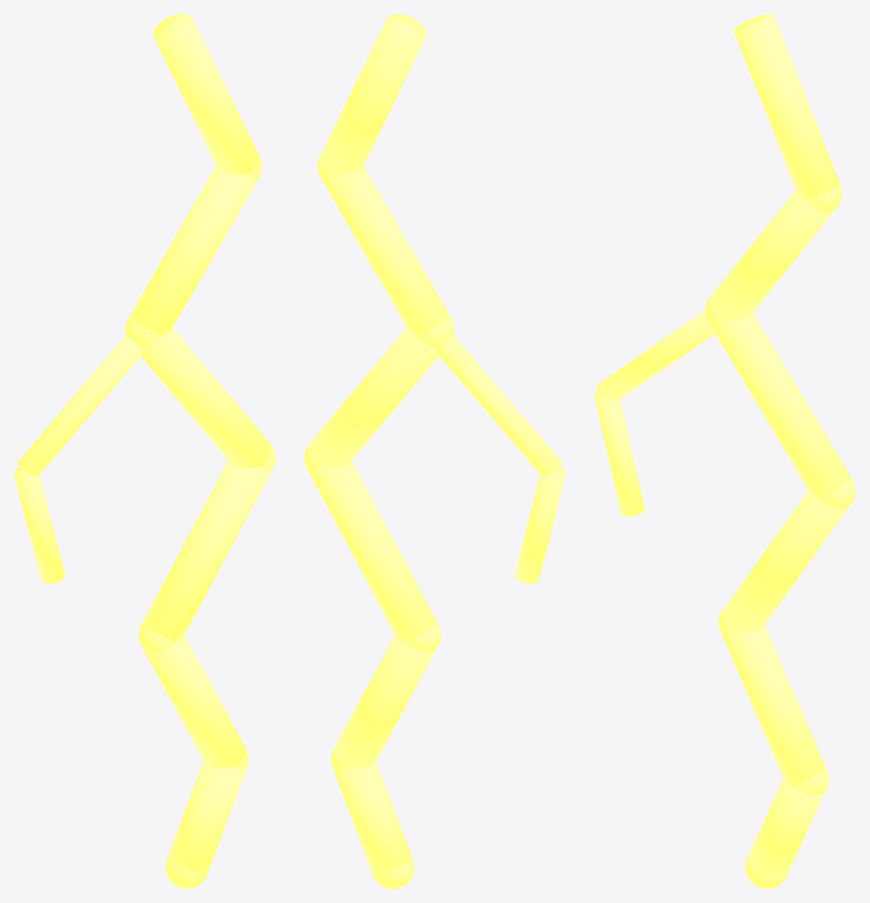
Rendered from rayo.glb.
The picture shows the model from 3 angles, left to right: view 1: azimuth 30°, elevation 25°; view 2: azimuth 150°, elevation 25°; view 3: azimuth 330°, elevation 25°; orthographic projection.
Visible parts, largest first — view 1: Cylinder.003, Cylinder.001, Cylinder, Cylinder.002, Cylinder.004, Cylinder.005, Cylinder.006, Cylinder.007, Sphere.005, Sphere.003, Sphere.001; view 2: Cylinder.003, Cylinder.001, Cylinder, Cylinder.002, Cylinder.004, Cylinder.005, Cylinder.006, Cylinder.007, Sphere.005, Sphere.003, Sphere.001; view 3: Cylinder.002, Cylinder, Cylinder.004, Cylinder.003, Cylinder.001, Cylinder.005, Cylinder.006, Cylinder.007, Sphere.002, Sphere, Sphere.004.
Boxes of the visible parts, x1=… form: Cylinder.003: x1=141, y1=461, x2=272, y2=642; Cylinder.001: x1=128, y1=166, x2=258, y2=337; Cylinder: x1=153, y1=14, x2=260, y2=174; Cylinder.002: x1=141, y1=328, x2=272, y2=467; Cylinder.004: x1=143, y1=635, x2=246, y2=768; Cylinder.005: x1=167, y1=761, x2=246, y2=875; Cylinder.006: x1=17, y1=335, x2=143, y2=475; Cylinder.007: x1=14, y1=467, x2=64, y2=583; Sphere.005: x1=165, y1=857, x2=206, y2=888; Sphere.003: x1=138, y1=622, x2=175, y2=652; Sphere.001: x1=125, y1=316, x2=161, y2=348; Cylinder.003: x1=307, y1=461, x2=438, y2=642; Cylinder.001: x1=321, y1=166, x2=451, y2=337; Cylinder: x1=319, y1=14, x2=426, y2=174; Cylinder.002: x1=307, y1=328, x2=438, y2=467; Cylinder.004: x1=333, y1=635, x2=436, y2=768; Cylinder.005: x1=333, y1=761, x2=412, y2=875; Cylinder.006: x1=436, y1=335, x2=562, y2=475; Cylinder.007: x1=515, y1=467, x2=565, y2=583; Sphere.005: x1=373, y1=857, x2=414, y2=888; Sphere.003: x1=404, y1=622, x2=441, y2=652; Sphere.001: x1=418, y1=316, x2=454, y2=348; Cylinder.002: x1=709, y1=313, x2=851, y2=498; Cylinder: x1=733, y1=14, x2=840, y2=200; Cylinder.004: x1=721, y1=625, x2=826, y2=786; Cylinder.003: x1=721, y1=490, x2=848, y2=632; Cylinder.001: x1=708, y1=190, x2=835, y2=320; Cylinder.005: x1=747, y1=779, x2=825, y2=881; Cylinder.006: x1=597, y1=311, x2=715, y2=401; Cylinder.007: x1=594, y1=393, x2=644, y2=516; Sphere.002: x1=818, y1=478, x2=855, y2=509; Sphere: x1=805, y1=183, x2=842, y2=212; Sphere.004: x1=791, y1=768, x2=828, y2=795.
Bounding box in the file's own units: 0.9588 × 3.1 × 0.14.
